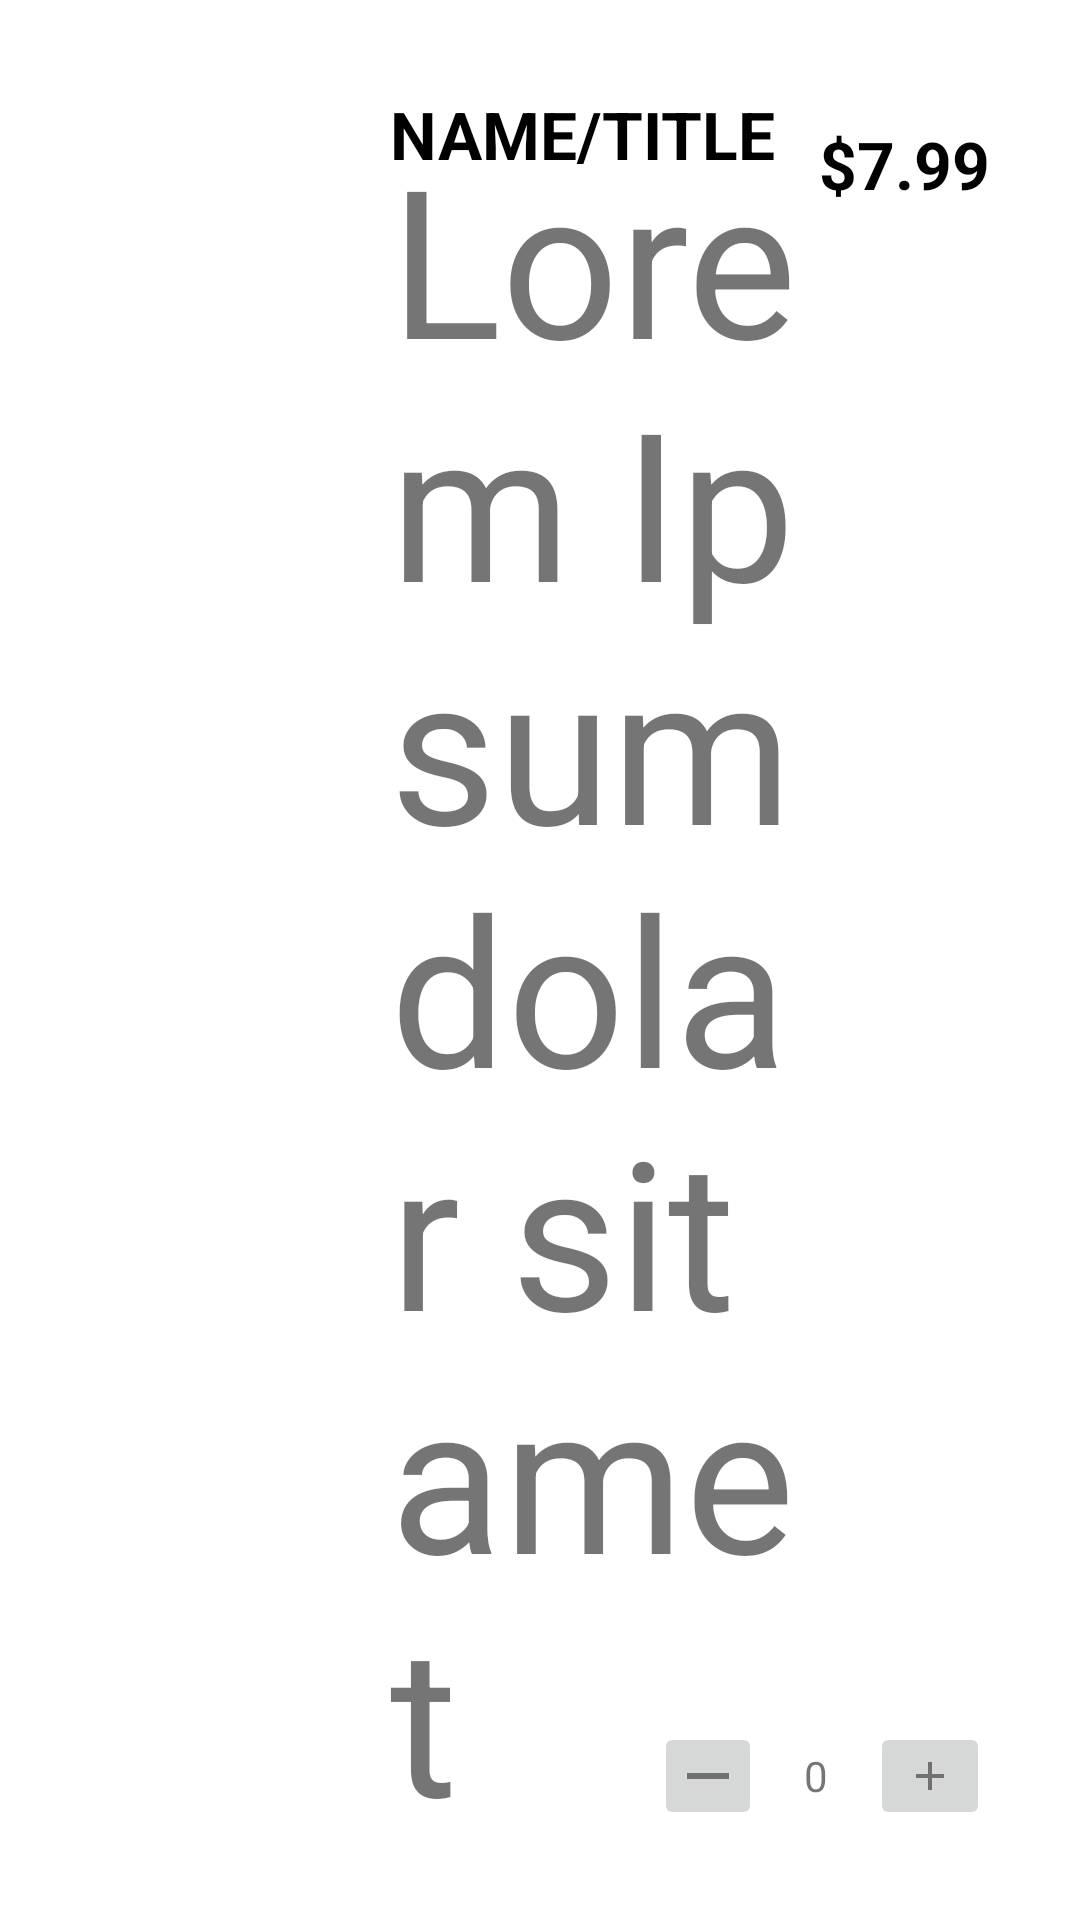

Icons on this 1080w x 1920h Android screen, each with its box as (x1, y1, x2, y2):
add: (882, 1740, 978, 1812)
remove: (666, 1740, 750, 1812)
